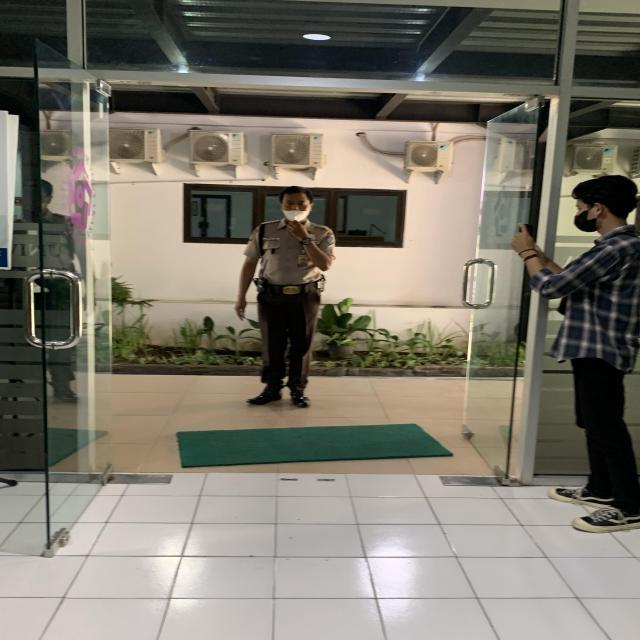hairnet: (277, 186, 314, 224)
